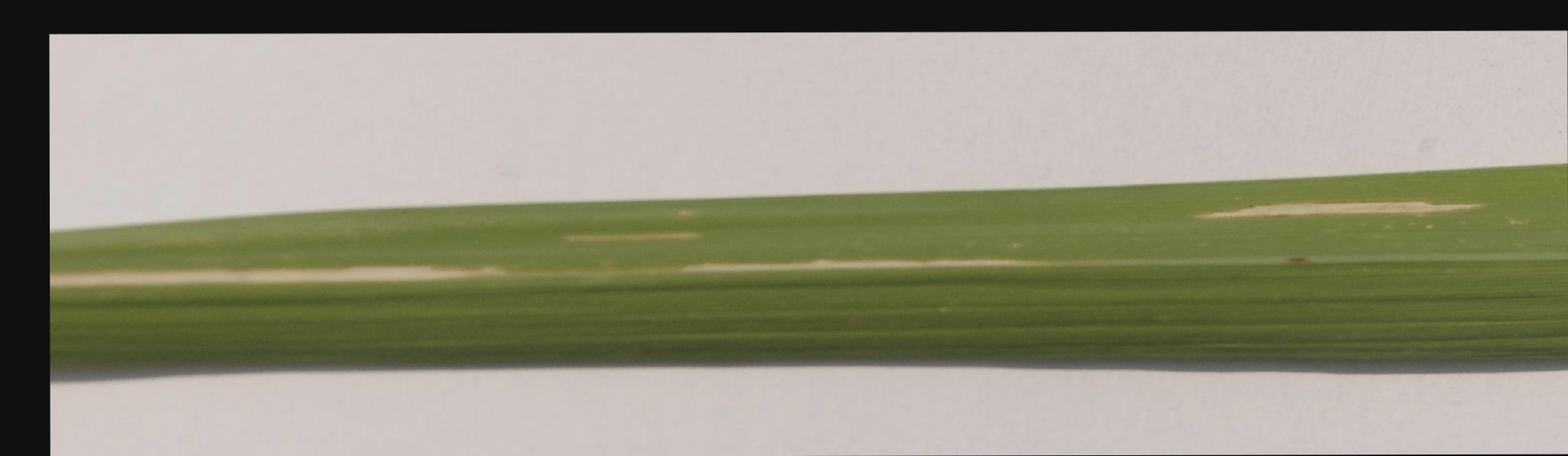Leaf_Blast: (53, 253, 1112, 287), (1185, 185, 1529, 243)
